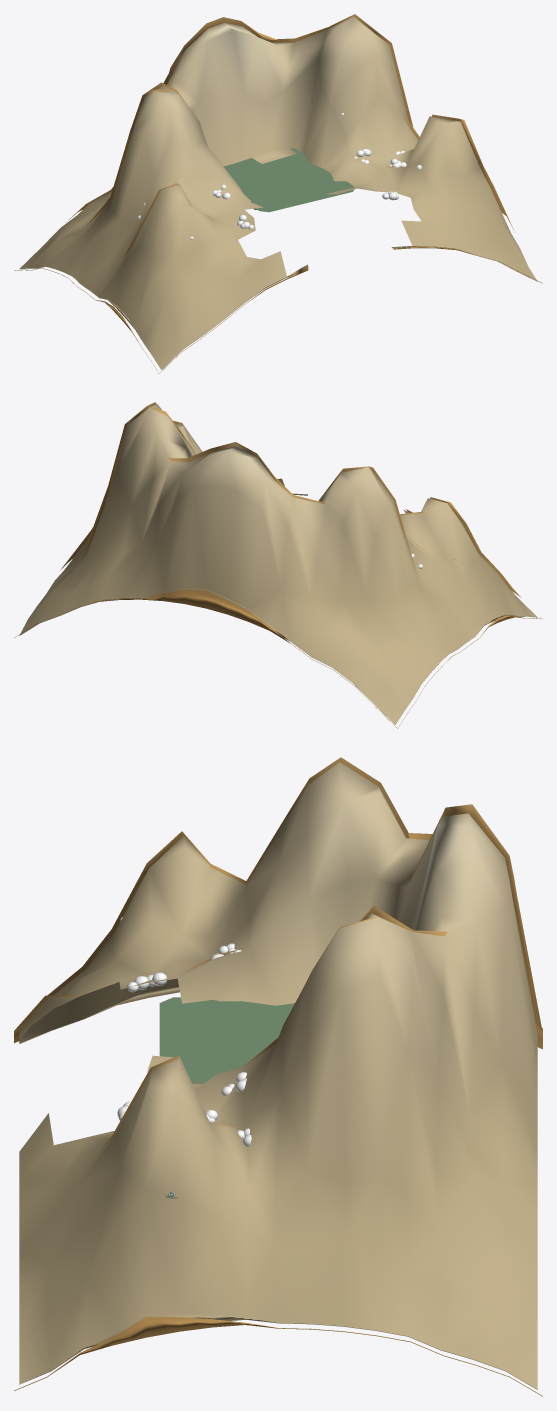
Rendered from terrain-blue.glb.
3 views of the same model, one above another, from view 1: azimuth 30°, elevation 25°; view 2: azimuth 150°, elevation 25°; view 3: azimuth 270°, elevation 25° (orthographic). The views are drawn at different scales.
Visible parts, largest first — view 1: citadel-oskar-grid-mountain-surface, highland-town-foundation-platform, backlit-highlight-citadel-oskar-grid-mountain-surface; view 2: citadel-oskar-grid-mountain-surface, backlit-highlight-citadel-oskar-grid-mountain-surface; view 3: citadel-oskar-grid-mountain-surface, backlit-highlight-citadel-oskar-grid-mountain-surface, highland-town-foundation-platform.
Part boxes in pixels (x1,y1,x2,y2): citadel-oskar-grid-mountain-surface: [19, 16, 537, 369]; highland-town-foundation-platform: [223, 148, 354, 212]; backlit-highlight-citadel-oskar-grid-mountain-surface: [14, 14, 542, 373]; citadel-oskar-grid-mountain-surface: [19, 404, 537, 724]; backlit-highlight-citadel-oskar-grid-mountain-surface: [14, 402, 542, 728]; citadel-oskar-grid-mountain-surface: [19, 762, 537, 1389]; backlit-highlight-citadel-oskar-grid-mountain-surface: [14, 757, 542, 1396]; highland-town-foundation-platform: [159, 997, 294, 1082].
Bounding box in the file's own units: 184 × 103 × 120.
